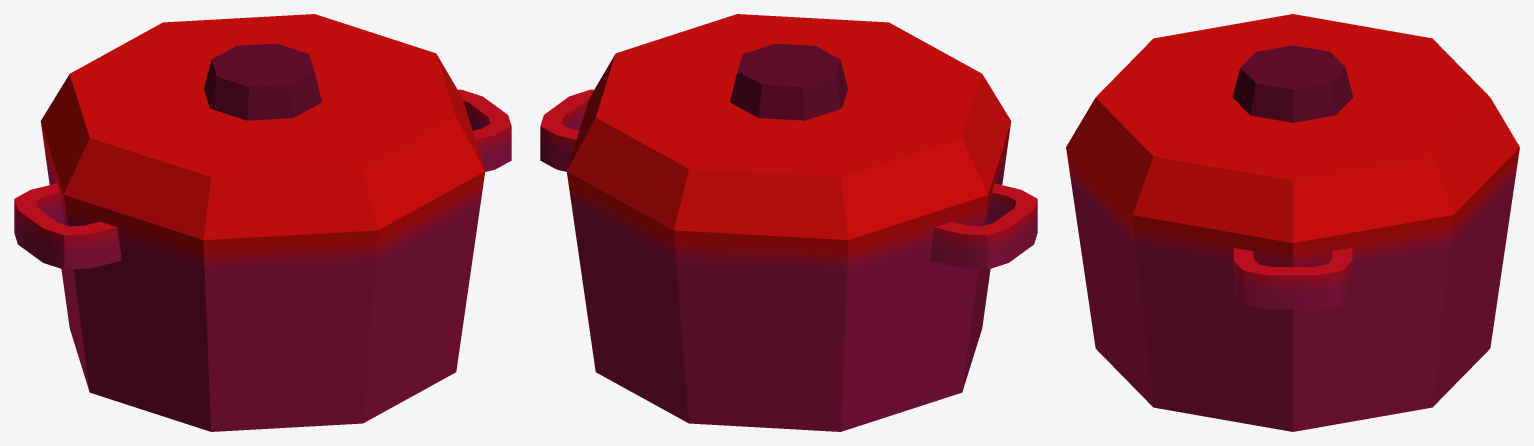
The model's file is Pot.fbx.
3 views of the same model, side by side, from view 1: azimuth 30°, elevation 25°; view 2: azimuth 150°, elevation 25°; view 3: azimuth 270°, elevation 25° (orthographic).
Visible parts, largest first — view 1: Pot, Lid; view 2: Pot, Lid; view 3: Pot, Lid.
Part boxes in pixels (x1,y1,x2,y2): Pot: [14, 89, 511, 431]; Lid: [41, 14, 484, 239]; Pot: [540, 89, 1037, 431]; Lid: [567, 14, 1010, 239]; Pot: [1066, 147, 1519, 431]; Lid: [1066, 14, 1519, 242].
Size of the model in its own units: 70.41 by 41.23 by 60.35.
1 material, 1 textured.
